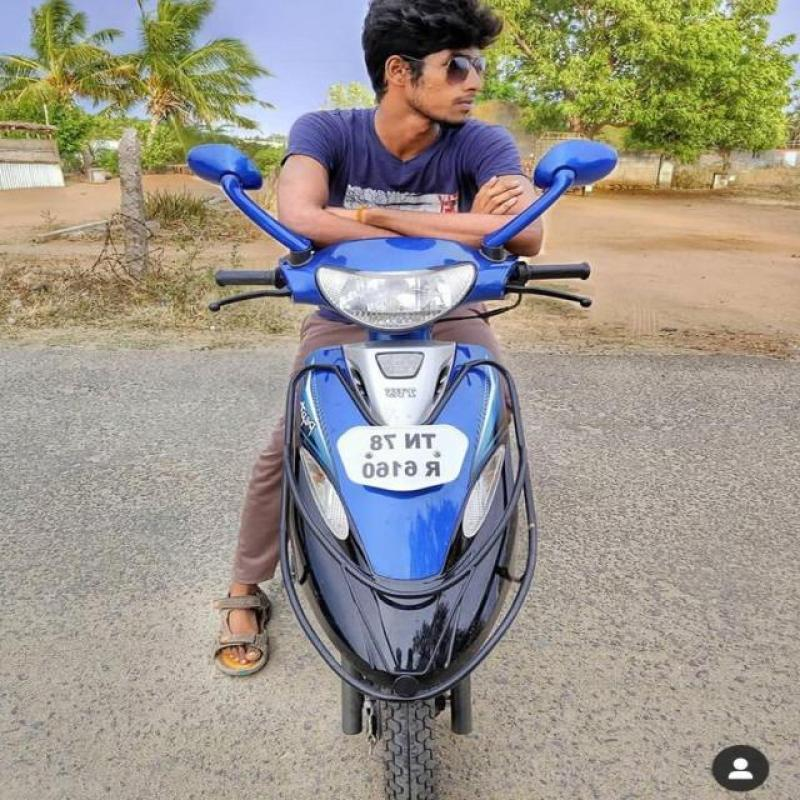nohelmet: (353, 5, 513, 125)
